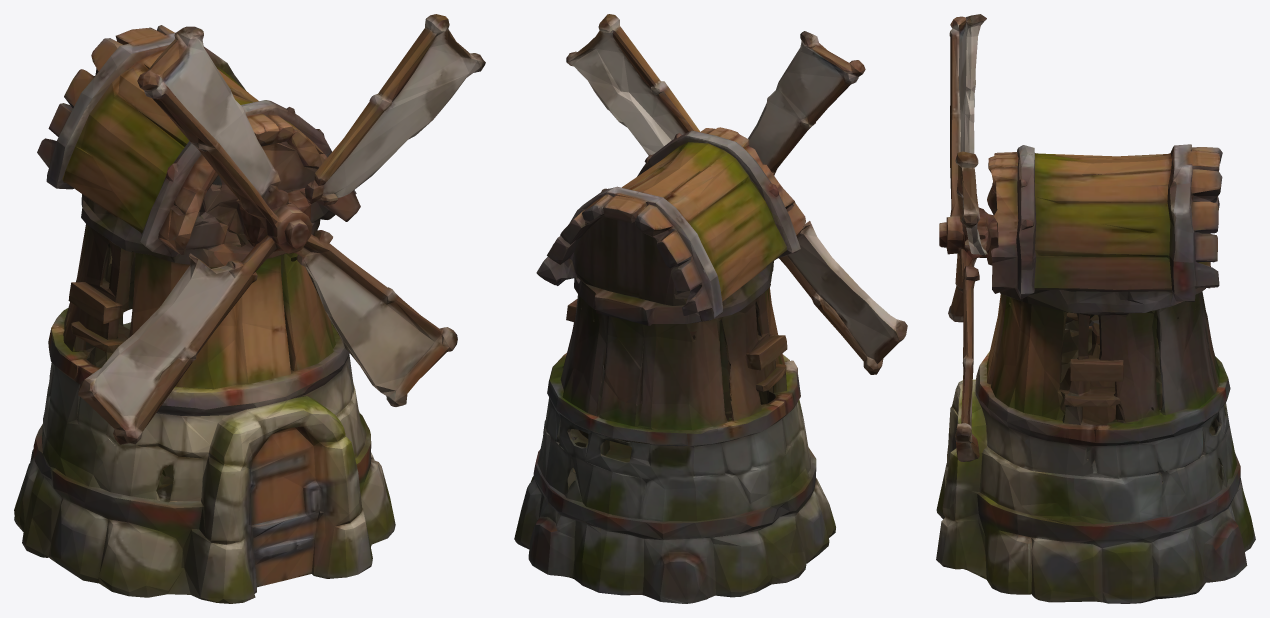
File: windmill.glb
The picture shows the model from 3 angles, left to right: view 1: azimuth 30°, elevation 25°; view 2: azimuth 150°, elevation 25°; view 3: azimuth 270°, elevation 25°; orthographic projection. The views are drawn at different scales.
Parts seen in each view (by area): view 1: world; view 2: world; view 3: world.
Boxes of the visible parts, bbox=[...] form: world: bbox=[14, 14, 485, 603]; world: bbox=[514, 14, 907, 603]; world: bbox=[936, 14, 1255, 603].
Size of the model in its own units: 0.7432 by 0.9992 by 0.5922.
Materials: 1 (1 with a texture image).
